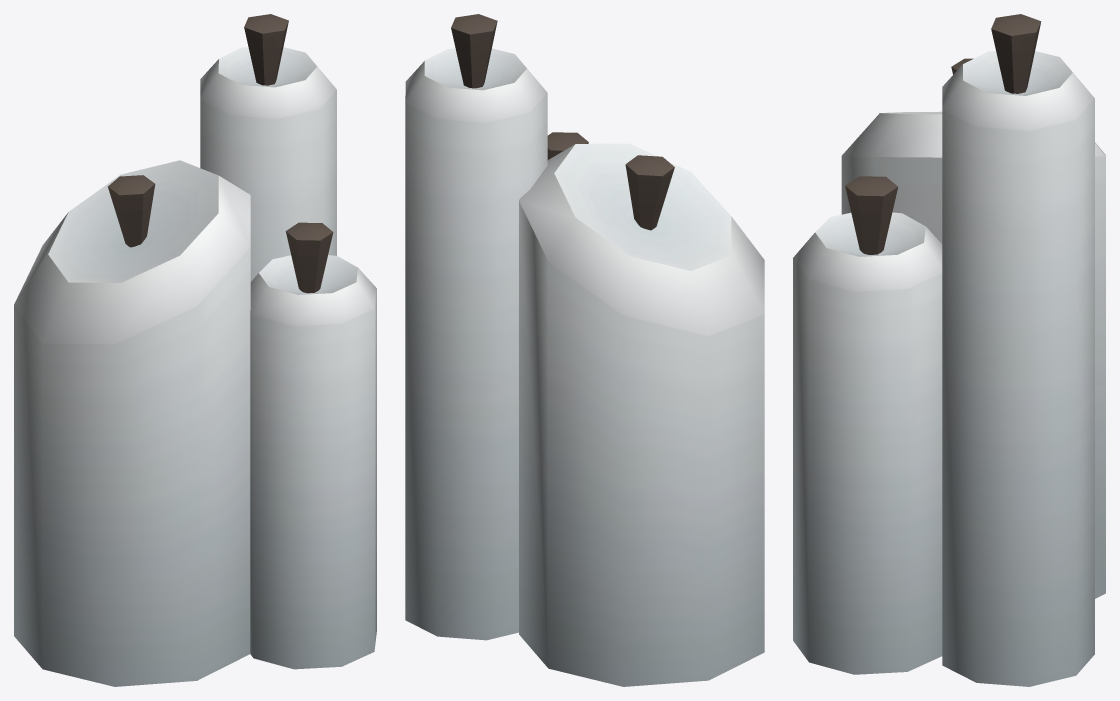
The model's file is candle_triple.glb.
The picture shows the model from 3 angles, left to right: view 1: azimuth 30°, elevation 25°; view 2: azimuth 150°, elevation 25°; view 3: azimuth 270°, elevation 25°; orthographic projection. The views are drawn at different scales.
Parts seen in each view (by area): view 1: candle_triple; view 2: candle_triple; view 3: candle_triple.
Boxes of the visible parts, bbox=[...] form: candle_triple: bbox=[14, 14, 376, 686]; candle_triple: bbox=[405, 14, 764, 686]; candle_triple: bbox=[793, 14, 1105, 686].
Bounding box in the file's own units: 0.451 × 0.7857 × 0.351.
Materials: 1 (1 with a texture image).
